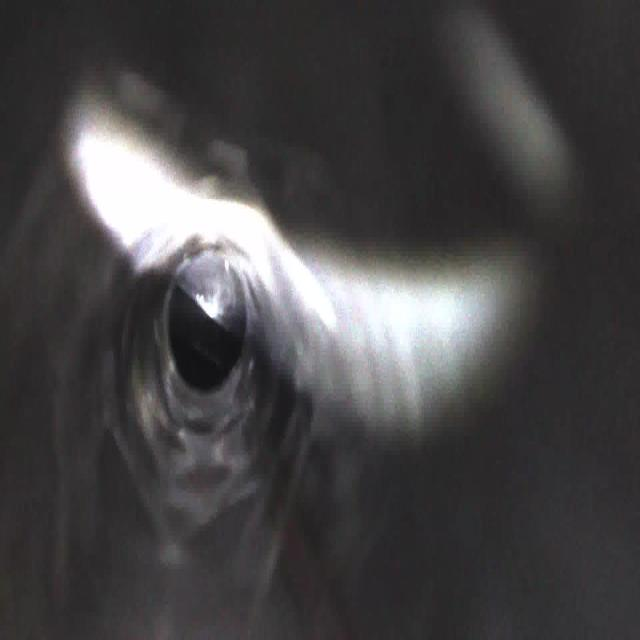crack: (180, 408, 253, 546), (100, 398, 173, 532)
